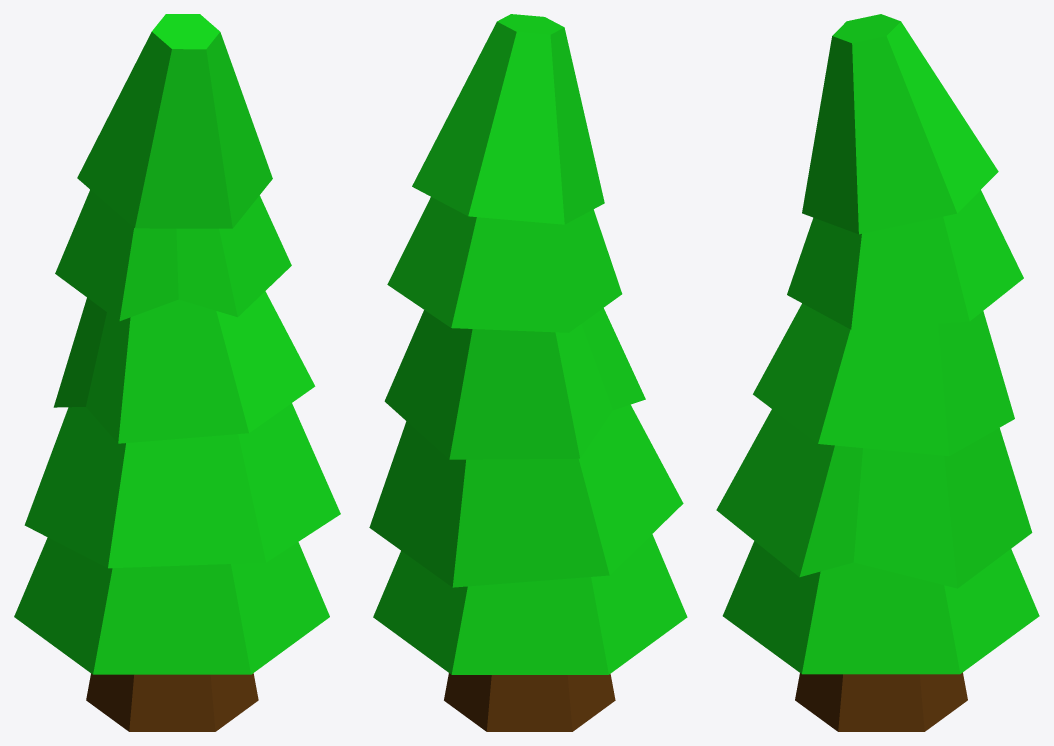
Rendered from Sapin.fbx.
3 views of the same model, side by side, from view 1: azimuth 30°, elevation 25°; view 2: azimuth 150°, elevation 25°; view 3: azimuth 270°, elevation 25° (orthographic).
Visible parts, largest first — view 1: Cylinder.002, Cylinder.001, Cylinder.003, Cylinder.005, Cylinder.004, Cylinder; view 2: Cylinder.002, Cylinder.003, Cylinder.001, Cylinder.005, Cylinder.004, Cylinder; view 3: Cylinder.002, Cylinder.005, Cylinder.003, Cylinder.001, Cylinder.004, Cylinder.
Part boxes in pixels (<box>): Cylinder.002: <box>24,403,340,568</box>; Cylinder.001: <box>14,537,329,674</box>; Cylinder.003: <box>53,291,315,443</box>; Cylinder.005: <box>77,14,272,228</box>; Cylinder.004: <box>55,189,291,321</box>; Cylinder: <box>86,673,258,731</box>; Cylinder.002: <box>369,404,683,587</box>; Cylinder.003: <box>384,308,645,459</box>; Cylinder.001: <box>373,534,687,674</box>; Cylinder.005: <box>412,14,604,224</box>; Cylinder.004: <box>387,197,622,332</box>; Cylinder: <box>444,673,615,731</box>; Cylinder.002: <box>716,409,1032,588</box>; Cylinder.005: <box>802,14,998,234</box>; Cylinder.003: <box>753,303,1014,456</box>; Cylinder.001: <box>722,541,1039,674</box>; Cylinder.004: <box>787,190,1023,329</box>; Cylinder: <box>795,672,967,731</box>.
Bounding box in the file's own units: 441 × 1158 × 499.
